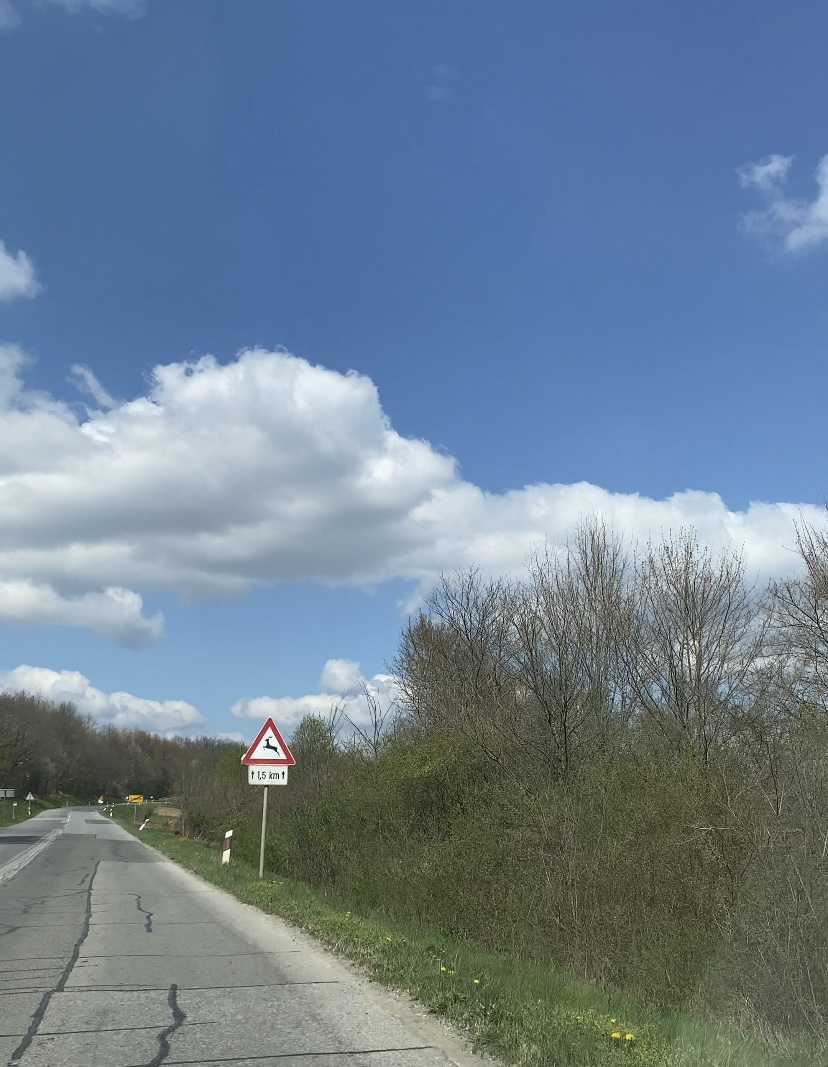Divljač na cesti: (242, 717, 297, 765)
